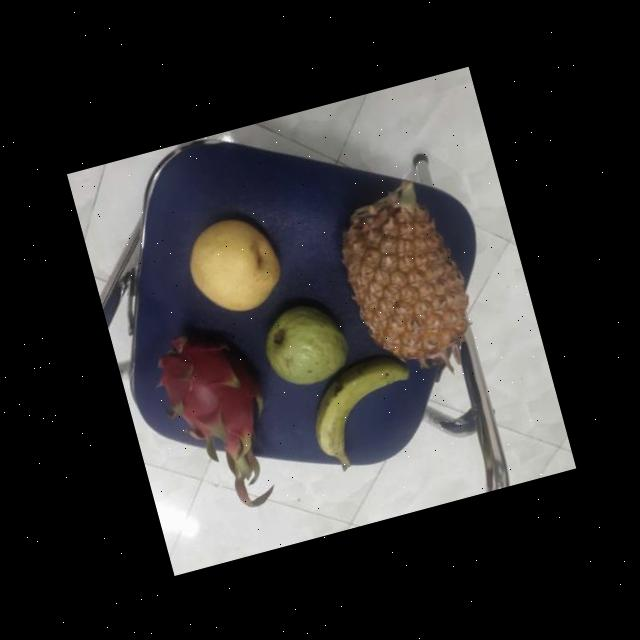banana: (300, 349, 425, 464)
guava: (255, 296, 355, 392)
pear: (175, 204, 294, 320)
pineapple: (326, 172, 488, 370)
pitaya: (150, 314, 280, 468)
